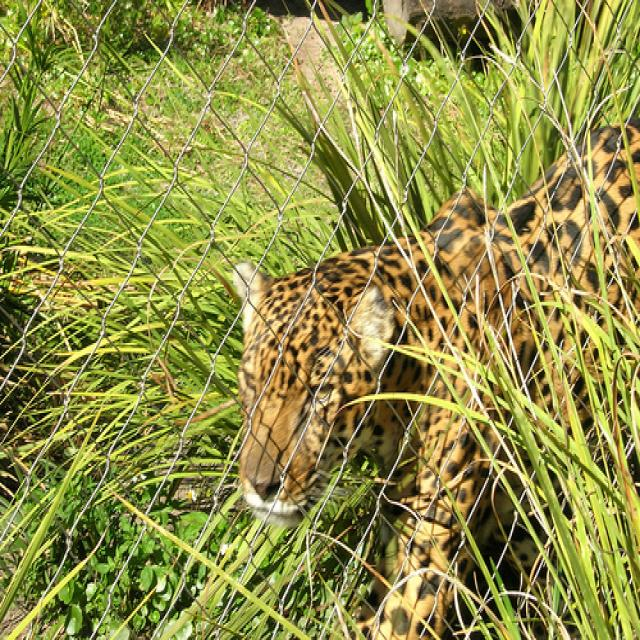Leopard: (229, 119, 638, 636)
